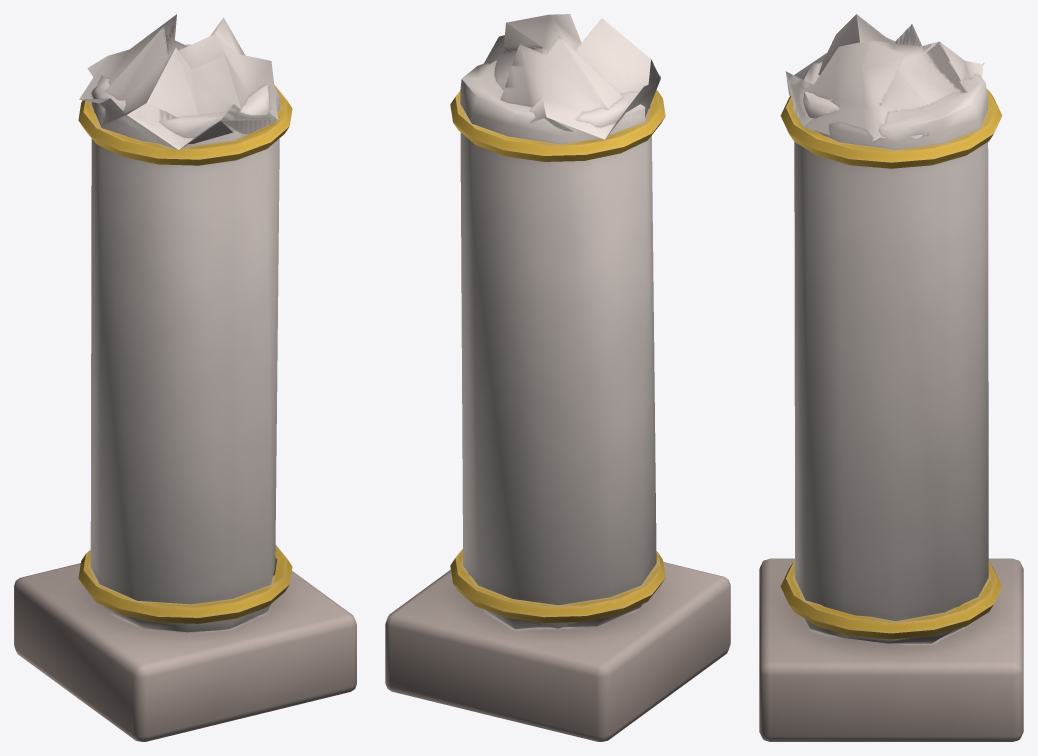
The model's file is hs_marble_pillar_broken.glb.
3 renders of one model, left to right at view 1: azimuth 30°, elevation 25°; view 2: azimuth 150°, elevation 25°; view 3: azimuth 270°, elevation 25°, orthographic. The views are drawn at different scales.
Parts seen in each view (by area): view 1: hs_marble_pillar_broken; view 2: hs_marble_pillar_broken; view 3: hs_marble_pillar_broken.
Boxes of the visible parts, x1,y1,x2,y2 form: hs_marble_pillar_broken: [14, 14, 356, 741]; hs_marble_pillar_broken: [385, 14, 730, 741]; hs_marble_pillar_broken: [759, 14, 1023, 741].
Bounding box in the file's own units: 1.5 × 4.15 × 1.5.
3 materials, 3 textured.
